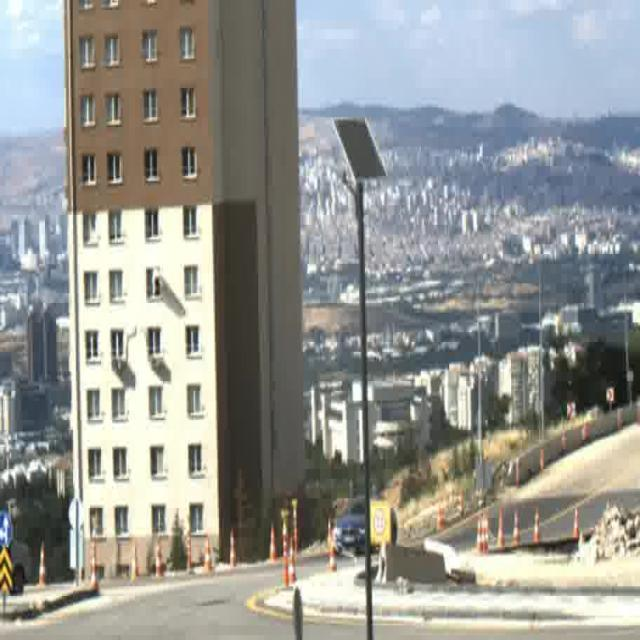Car: (336, 499, 369, 553), (10, 522, 31, 594)
